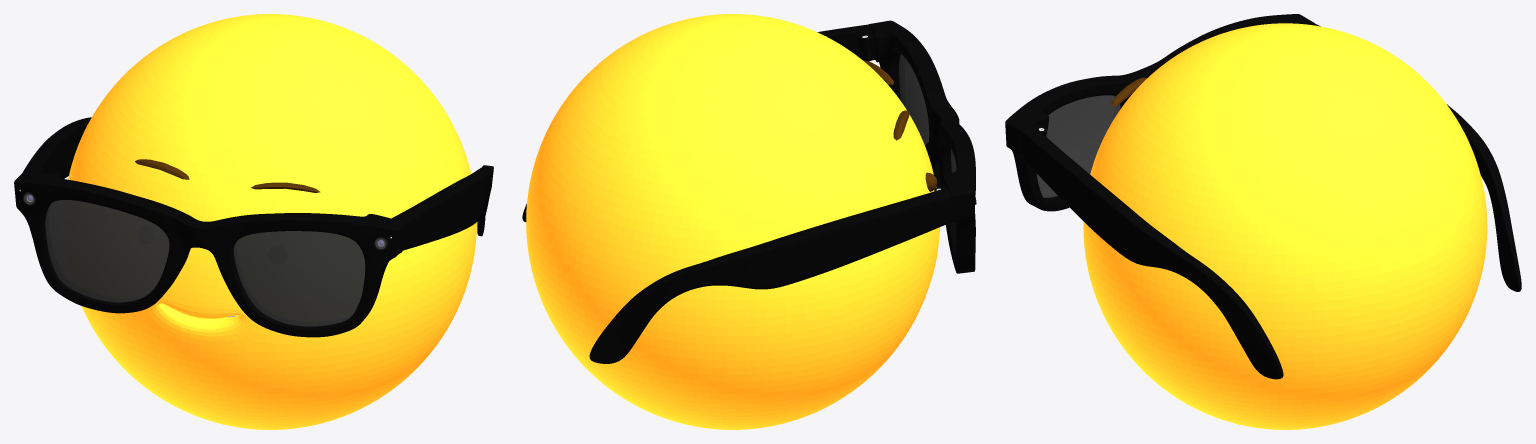
Rendered from sunny.fbx.
The picture shows the model from 3 angles, left to right: view 1: azimuth 30°, elevation 25°; view 2: azimuth 150°, elevation 25°; view 3: azimuth 270°, elevation 25°; orthographic projection. The views are drawn at different scales.
Visible parts, largest first — view 1: 球体, 14, 126, 134; view 2: 球体, 134, 126, 14, 142; view 3: 球体, 134, 126, 14.
Boxes of the visible parts, x1,y1,x2,y2 form: 球体: (68,14,476,429); 14: (45,200,365,326); 126: (14,173,405,337); 134: (22,117,493,250); 球体: (526,14,940,429); 134: (522,24,953,363); 126: (868,20,975,273); 14: (899,54,956,172); 142: (833,33,946,191); 球体: (1083,23,1487,429); 134: (1020,23,1521,379); 126: (1005,14,1314,211); 14: (1036,95,1120,197).
Size of the model in its own units: 6585 by 5175 by 6536.
